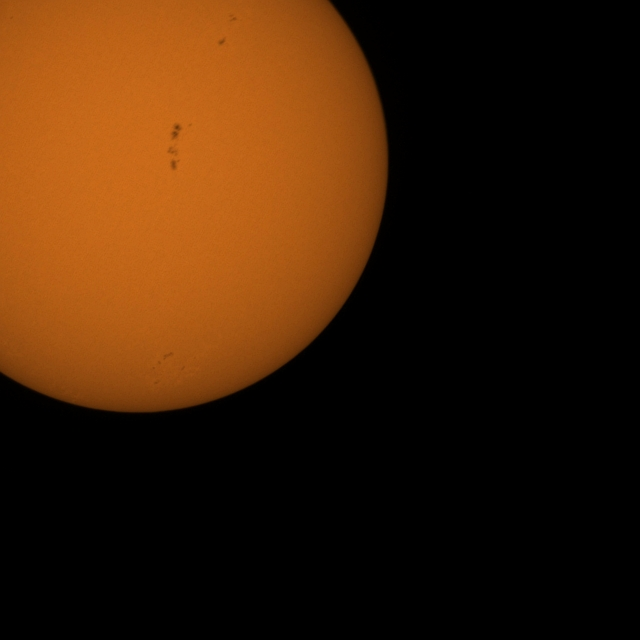sunspot: (168, 122, 189, 150), (151, 351, 175, 374), (166, 139, 182, 173), (227, 13, 239, 23), (218, 36, 227, 46), (181, 365, 186, 372)
